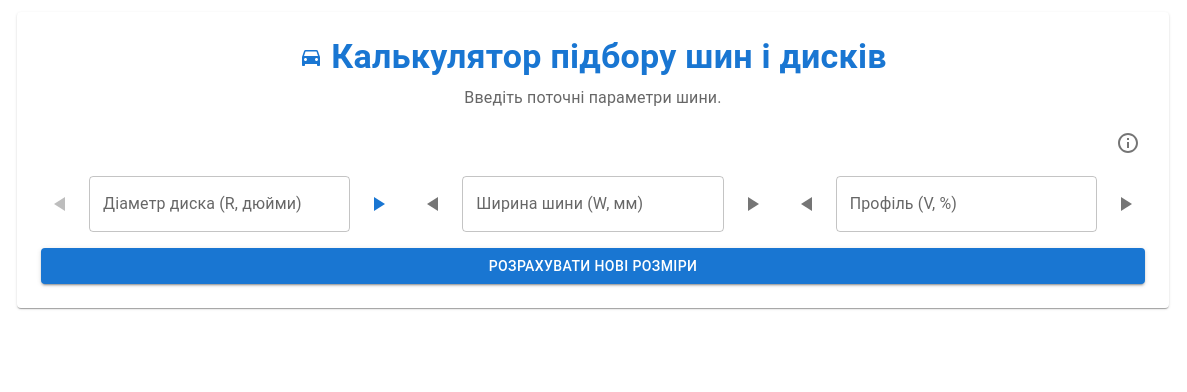
Test case: shows validation error when submitting empty form
Click the button "Розрахувати нові розміри". click: (593, 266)
box: [41,248,1145,284]
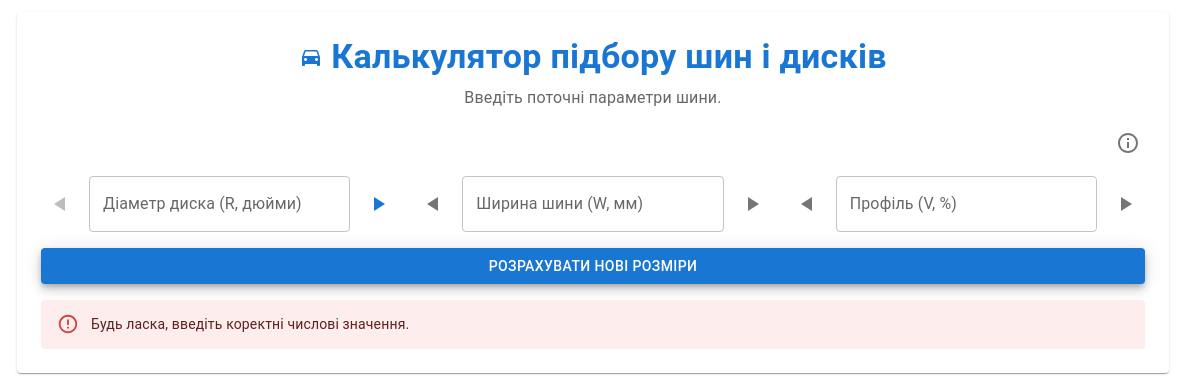
expect the text "Будь ласка, введіть коректні числові значення." is shown: met, box [91,316,409,332]
